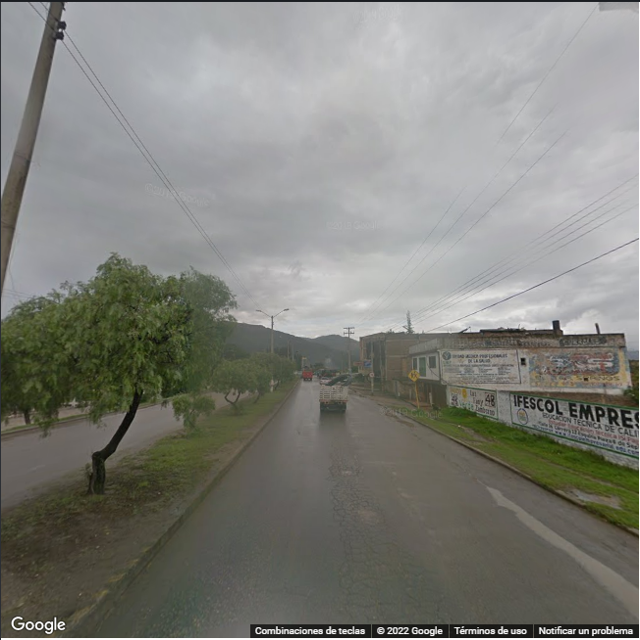D20: (324, 457, 449, 620)
